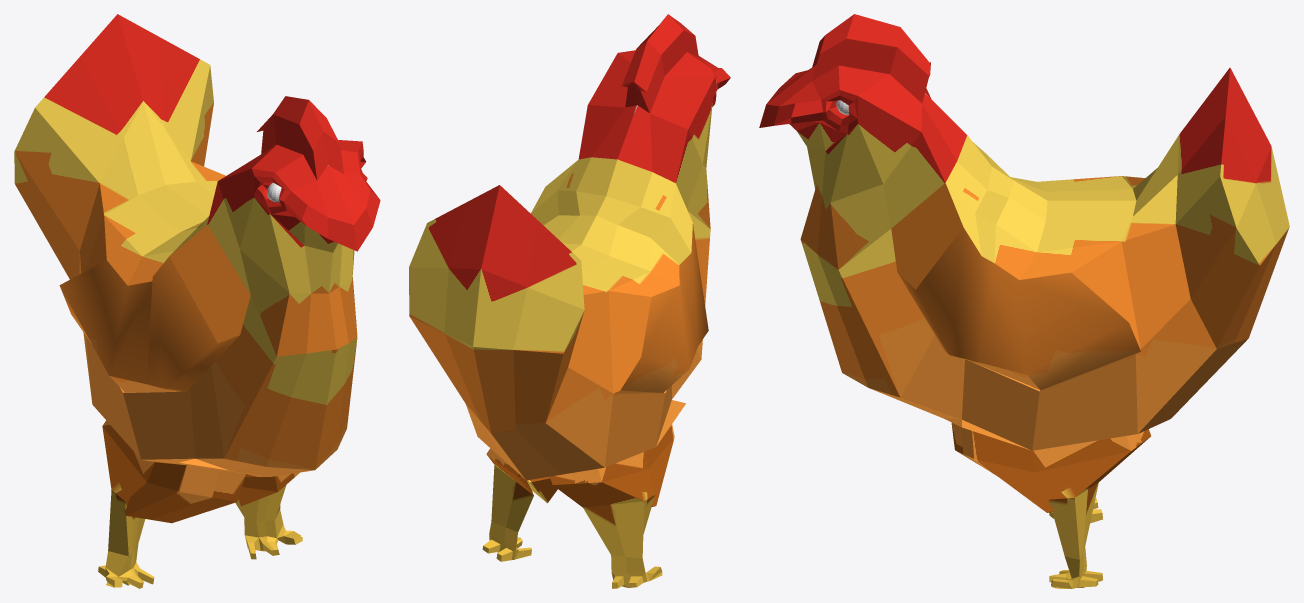
Rendered from chicken.glb.
3 renders of one model, left to right at view 1: azimuth 30°, elevation 25°; view 2: azimuth 150°, elevation 25°; view 3: azimuth 270°, elevation 25°, orthographic. The views are drawn at different scales.
Visible parts, largest first — view 1: chicken; view 2: chicken; view 3: chicken.
Boxes of the visible parts, box(x1,y1,x2,y2) form: chicken: box(14, 14, 380, 588); chicken: box(409, 14, 730, 588); chicken: box(759, 14, 1289, 588).
Bounding box in the file's own units: 2.01 × 4.71 × 4.2.
3 materials, 1 textured.
